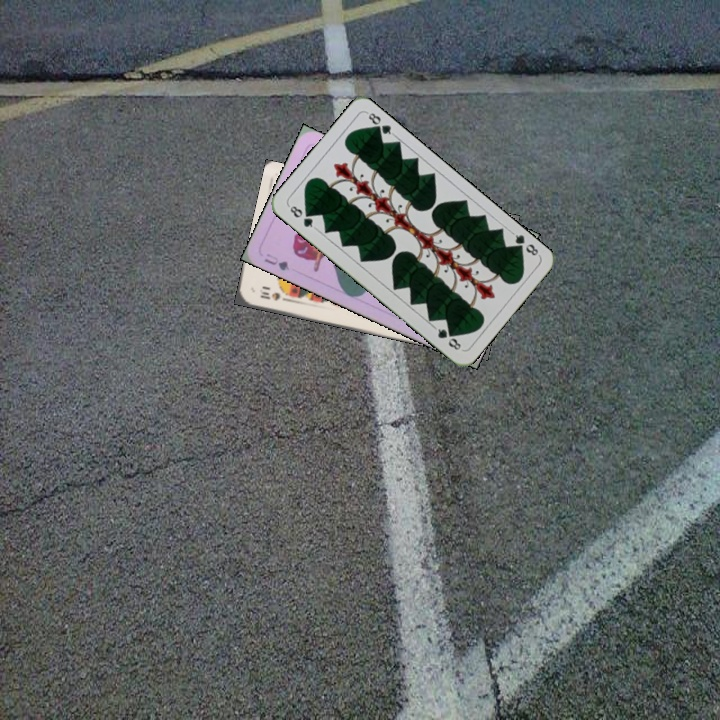G8: (284, 201, 319, 231), (508, 228, 542, 258)
GU: (260, 249, 292, 273)
S10: (256, 285, 291, 304)
